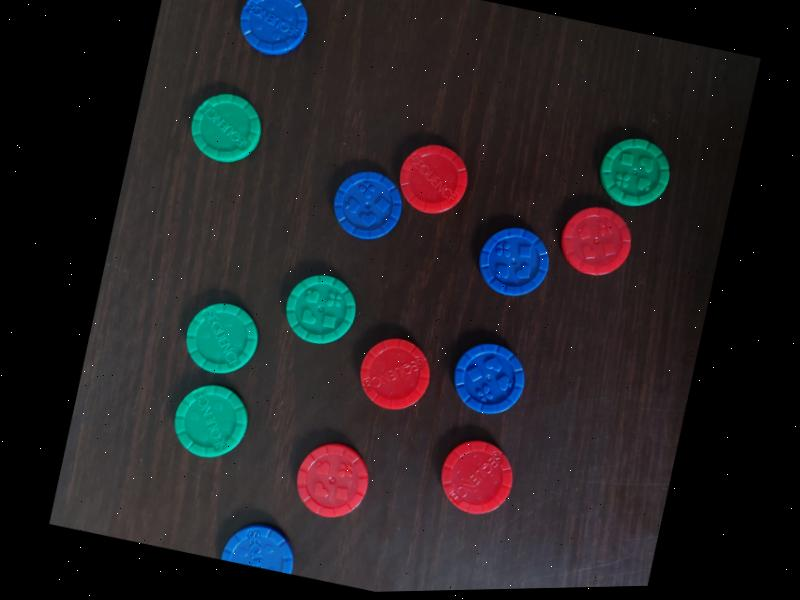Blue_Token: (465, 215, 565, 314), (438, 332, 538, 428), (321, 157, 414, 252), (224, 0, 322, 68), (211, 512, 306, 577)
Green_Token: (170, 281, 272, 387), (158, 371, 262, 473), (176, 79, 274, 177), (272, 261, 368, 358), (588, 123, 682, 218)
Red_Token: (279, 427, 383, 530), (425, 428, 526, 532), (346, 321, 445, 425), (386, 133, 483, 229), (547, 195, 643, 289)
